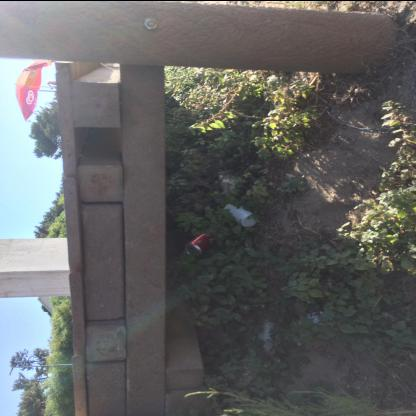karton: (223, 200, 258, 226)
metal: (184, 232, 212, 256)
